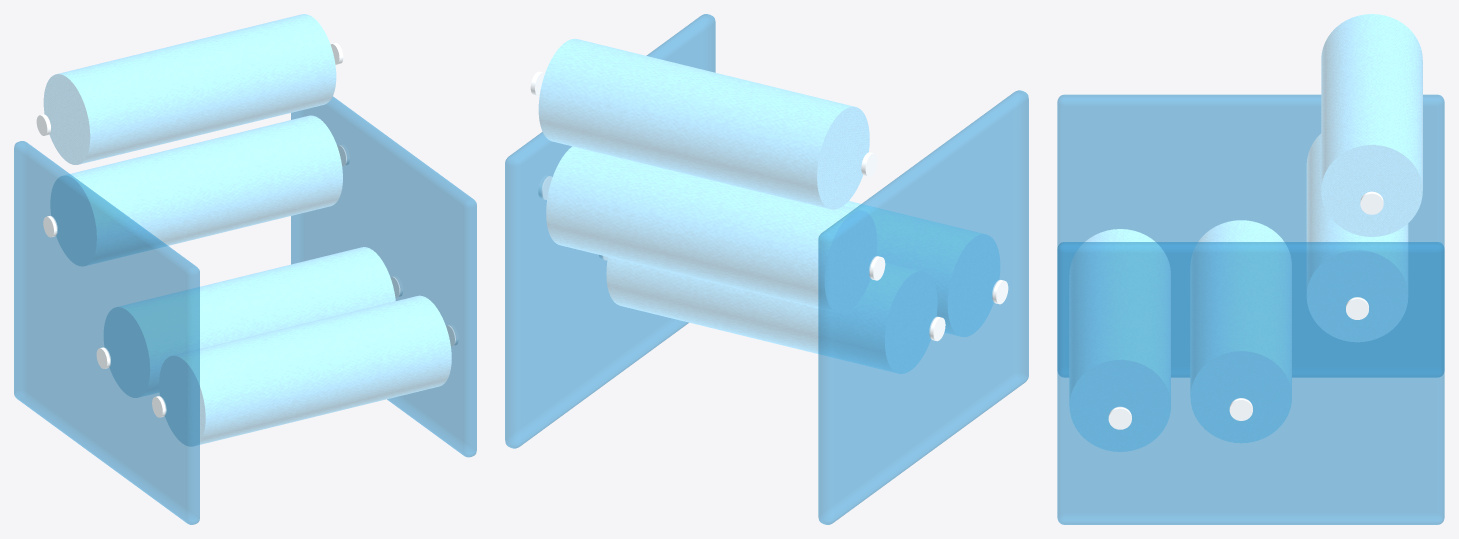
File: ref04_14.glb
3 renders of one model, left to right at view 1: azimuth 30°, elevation 25°; view 2: azimuth 150°, elevation 25°; view 3: azimuth 270°, elevation 25°, orthographic. The views are drawn at different scales.
Visible parts, largest first — view 1: ref04_14; view 2: ref04_14; view 3: ref04_14.
Part boxes in pixels (<box>): ref04_14: <box>14,14,476,524</box>; ref04_14: <box>505,14,1028,524</box>; ref04_14: <box>1057,14,1444,524</box>.
Size of the model in its own units: 0.77 by 0.845 by 0.8.
3 materials, 1 textured.
